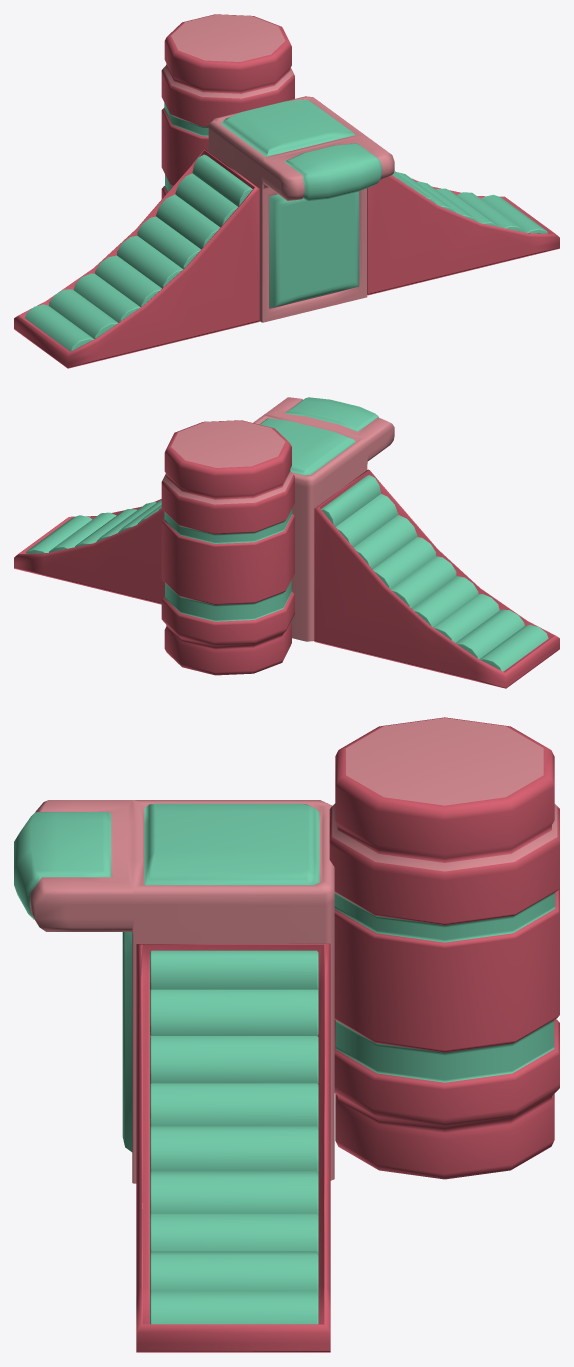
File: redBase.fbx
The picture shows the model from 3 angles, top to bottom: view 1: azimuth 30°, elevation 25°; view 2: azimuth 150°, elevation 25°; view 3: azimuth 270°, elevation 25°; orthographic projection. The views are drawn at different scales.
Parts seen in each view (by area): view 1: ramp1, mainPlatform, ramp2, tallPlatform; view 2: tallPlatform, ramp1, mainPlatform, ramp2; view 3: tallPlatform, ramp2, mainPlatform.
Boxes of the visible parts, x1,y1,x2,y2 form: ramp1: (14,149,259,368); mainPlatform: (208,96,394,322); ramp2: (367,171,559,295); tallPlatform: (161,14,294,198); tallPlatform: (161,420,294,675); ramp1: (314,469,559,688); mainPlatform: (253,397,394,641); ramp2: (14,499,164,604); tallPlatform: (329,717,559,1179); ramp2: (136,943,330,1352); mainPlatform: (14,800,334,1183).
Bounding box in the file's own units: 58.74 × 23.76 × 31.32.
